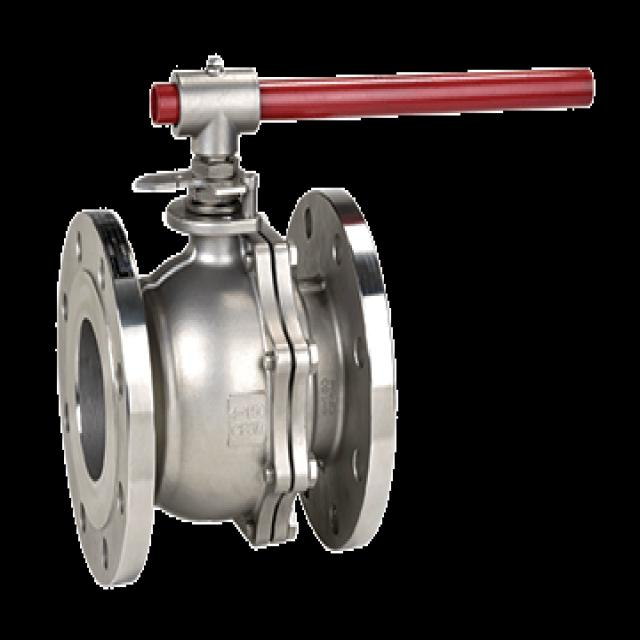Lever Handle Valve Threaded: (48, 27, 628, 161)
